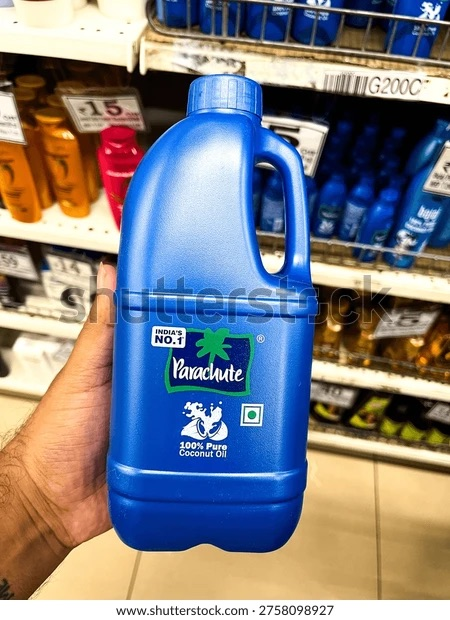parachute: (103, 70, 327, 558)
